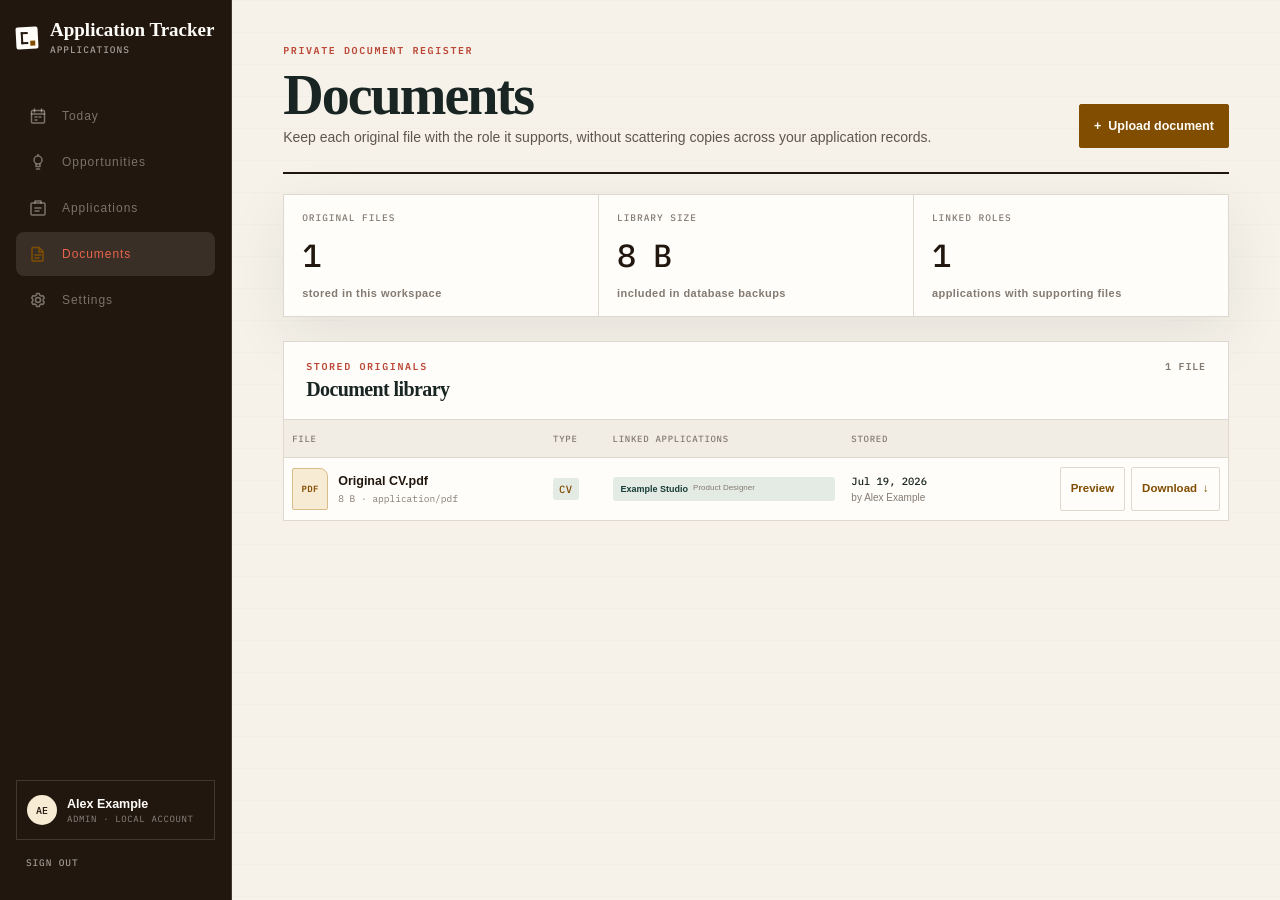
application shell › defers document upload data until the user opens the upload dialog
Expected: the heading "Documents" is shown, 283,64 -> 533,126
Expected: the table named "Documents" is shown, 284,420 -> 1228,520
Click the button "+ Upload document": {"x": 1154, "y": 126} 1079,104 -> 1229,148
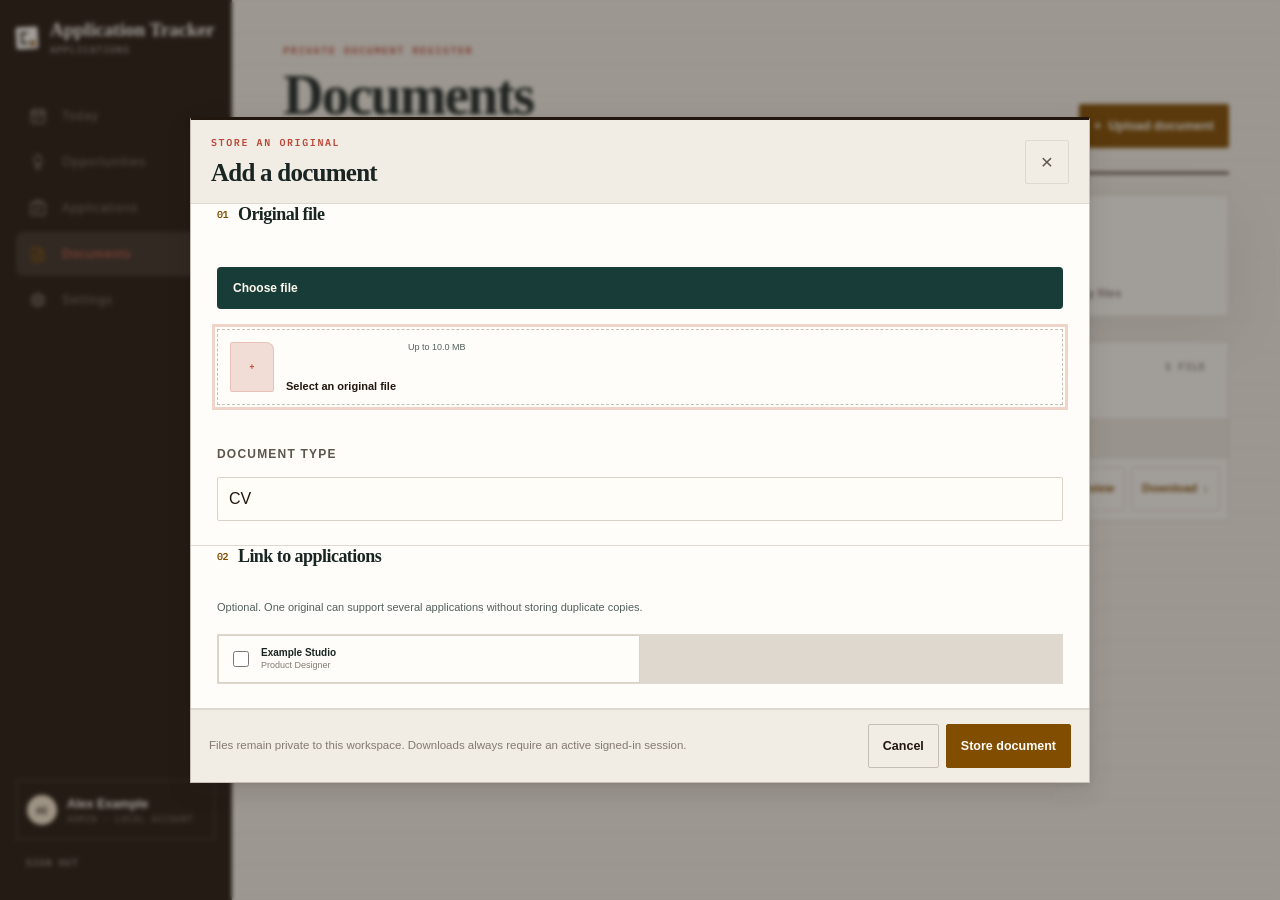
Expected: the dialog "Add a document" is shown, 190,118 -> 1090,783
